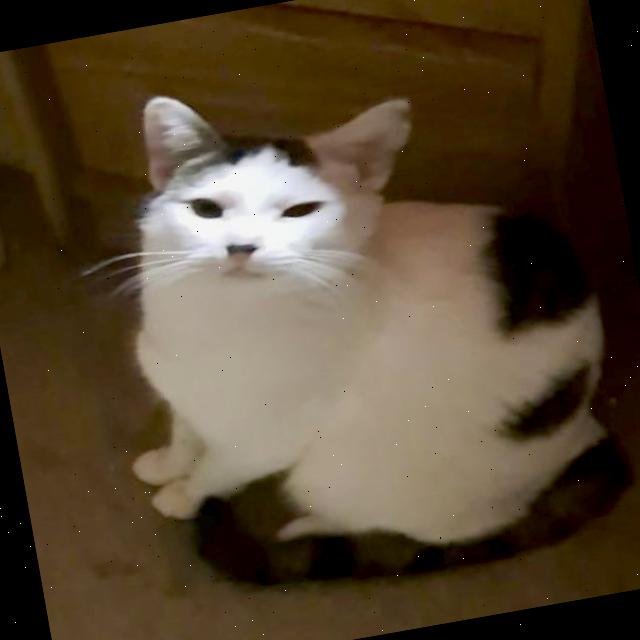american_shorthair_cat: (104, 48, 454, 331)
